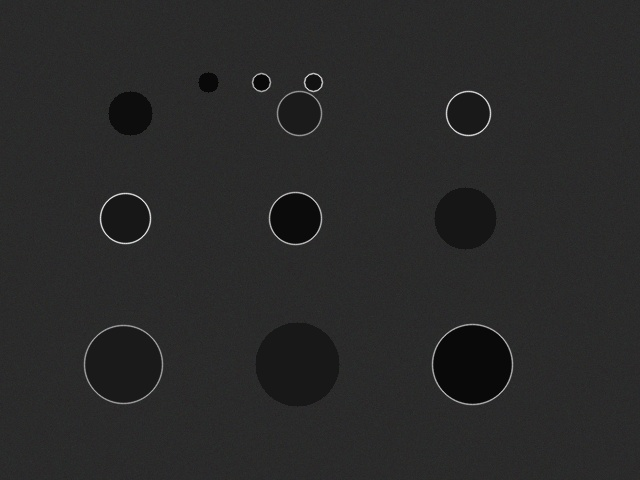hole: (255, 322, 339, 406), (432, 324, 512, 404), (84, 325, 162, 403), (434, 187, 496, 249), (269, 192, 321, 244), (100, 193, 150, 243), (108, 91, 152, 135), (277, 91, 321, 135), (446, 91, 490, 135), (198, 72, 218, 92), (252, 73, 270, 91), (304, 73, 322, 91)
